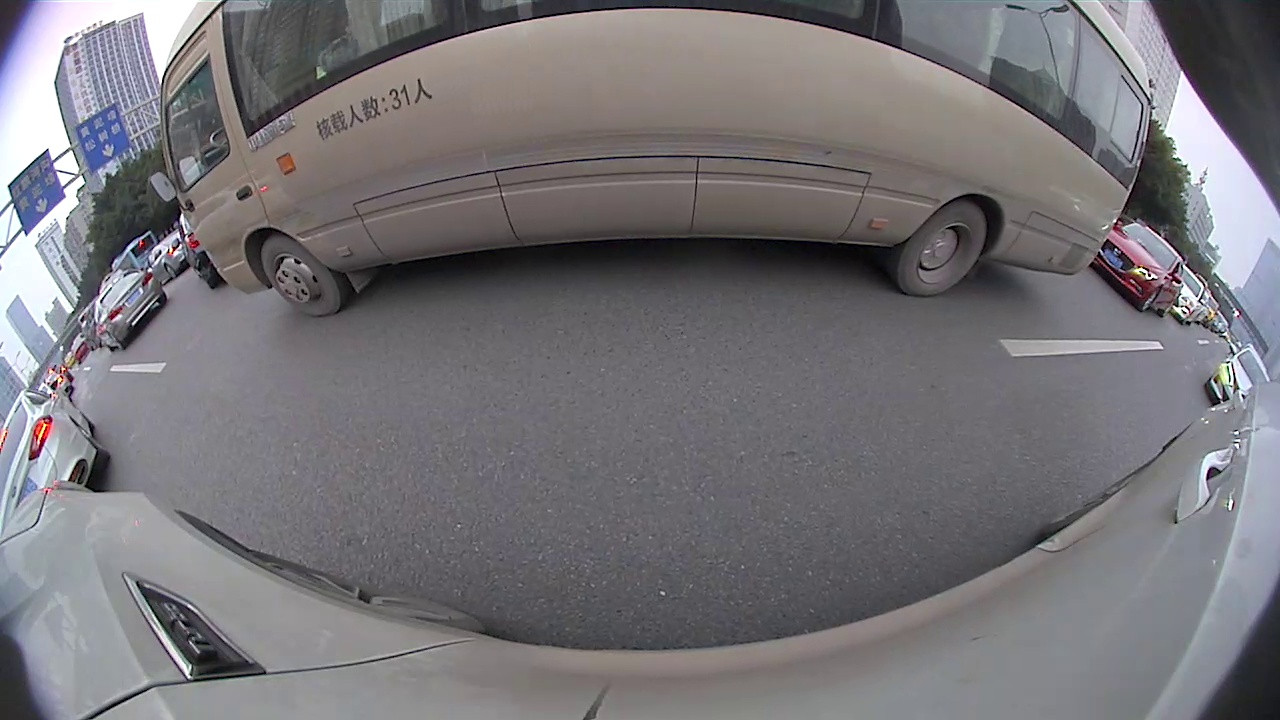bus: (1014, 167, 1093, 250)
car: (707, 79, 981, 186), (198, 131, 298, 205), (1, 324, 59, 405), (1193, 370, 1233, 423)
front: (772, 129, 819, 162), (202, 186, 219, 205), (348, 118, 364, 135)
rear: (417, 101, 438, 120), (242, 167, 257, 187)
